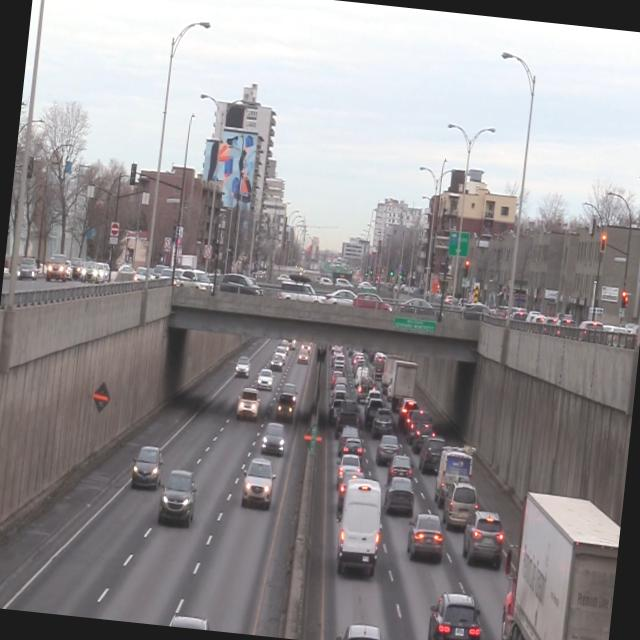Vehicle: (496, 485, 623, 640), (335, 477, 387, 578), (423, 586, 487, 640), (460, 507, 508, 571), (158, 467, 200, 529), (432, 444, 476, 503), (440, 479, 480, 537), (404, 512, 446, 564), (241, 456, 277, 511), (132, 442, 164, 492), (384, 474, 419, 518), (336, 620, 390, 640), (260, 422, 287, 458), (236, 388, 262, 421), (388, 454, 414, 478), (274, 394, 296, 421)
